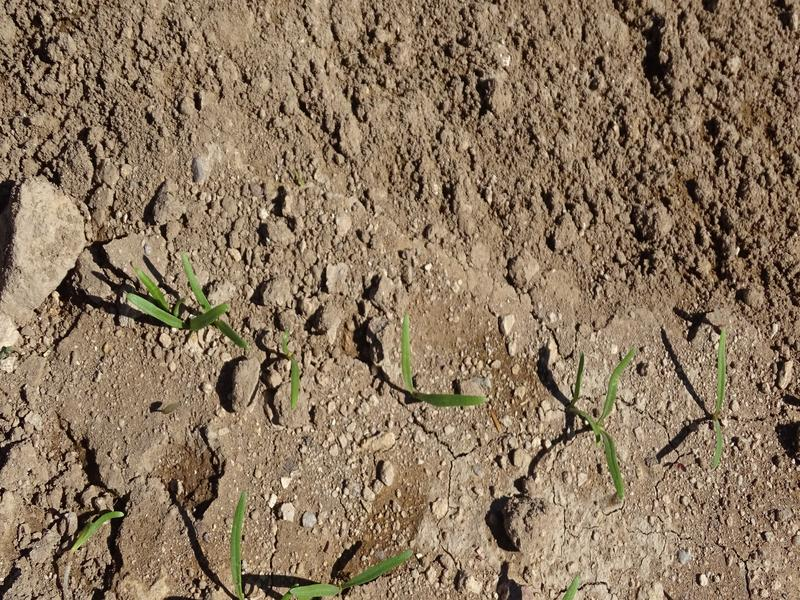Espinaca: (128, 259, 252, 350), (402, 311, 490, 413), (287, 549, 415, 600), (589, 353, 629, 493), (226, 492, 257, 600), (69, 504, 128, 553), (713, 331, 727, 463)
